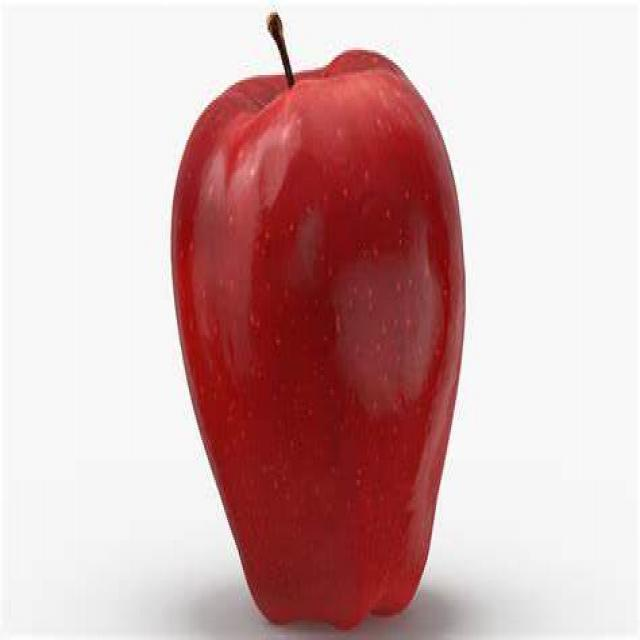Apple: (166, 12, 471, 630)
